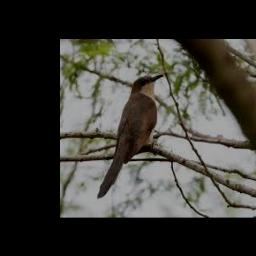Cuckoo: (97, 75, 163, 198)
